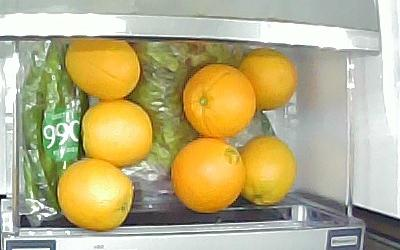orange: (169, 136, 246, 212), (56, 157, 134, 231), (181, 62, 256, 138), (79, 98, 153, 165), (63, 40, 141, 99), (237, 134, 296, 204), (237, 47, 296, 111)
